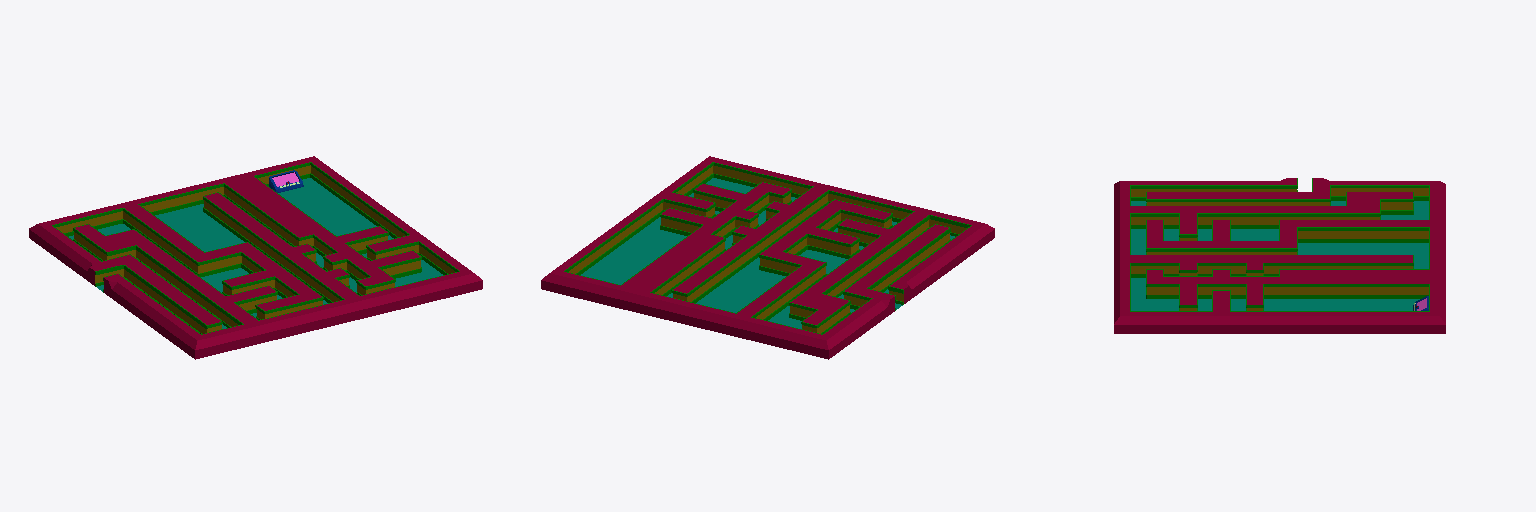
File: FinalMaze.obj
3 renders of one model, left to right at view 1: azimuth 30°, elevation 25°; view 2: azimuth 150°, elevation 25°; view 3: azimuth 270°, elevation 25°, orthographic.
Parts seen in each view (by area): view 1: Ceiling, MazeWallB, MazeWallA, Floor; view 2: Ceiling, MazeWallB, MazeWallA, Floor; view 3: Ceiling, MazeWallA, MazeWallB, Floor.
Part boxes in pixels (bbox=[...]): Ceiling: bbox=[29, 156, 482, 359]; MazeWallB: bbox=[56, 165, 454, 333]; MazeWallA: bbox=[52, 162, 459, 334]; Floor: bbox=[69, 178, 442, 328]; Ceiling: bbox=[541, 156, 994, 359]; MazeWallB: bbox=[569, 165, 966, 333]; MazeWallA: bbox=[564, 162, 971, 334]; Floor: bbox=[581, 178, 954, 328]; Ceiling: bbox=[1114, 178, 1445, 333]; MazeWallA: bbox=[1130, 178, 1429, 311]; MazeWallB: bbox=[1131, 188, 1428, 310]; Floor: bbox=[1131, 201, 1428, 310].
Bounding box in the file's own units: 100 × 5 × 100.